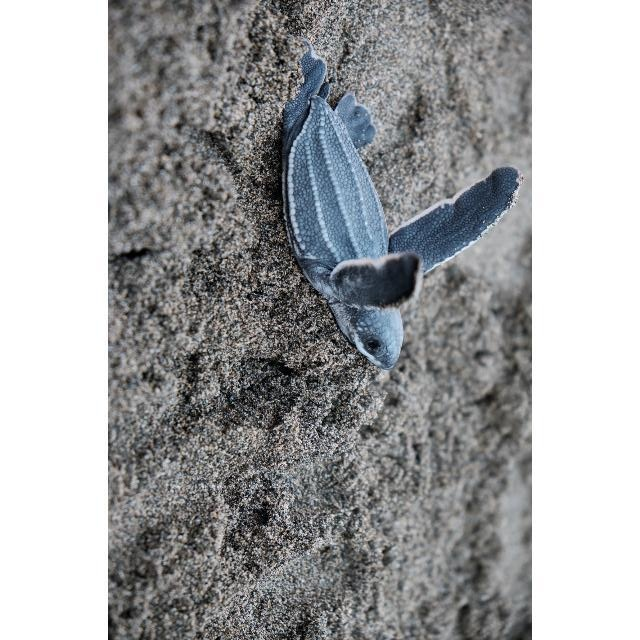turtle: (279, 43, 525, 370)
